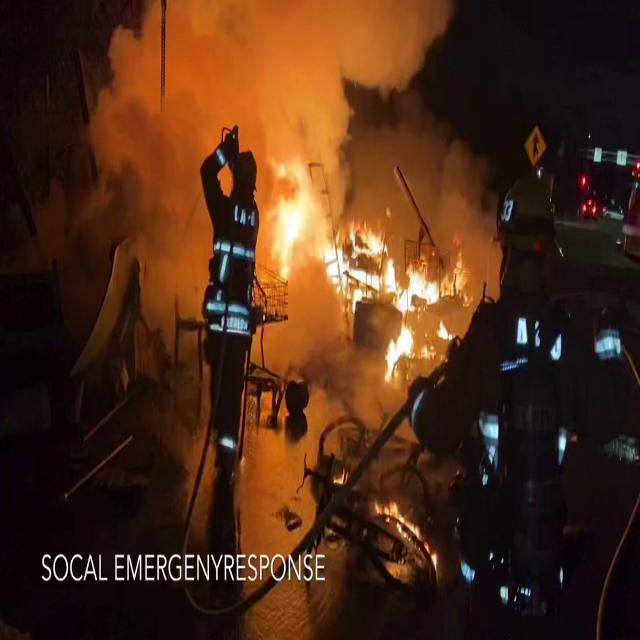Fire: (328, 200, 450, 374), (266, 150, 324, 289)
Smoke: (91, 0, 505, 347)
